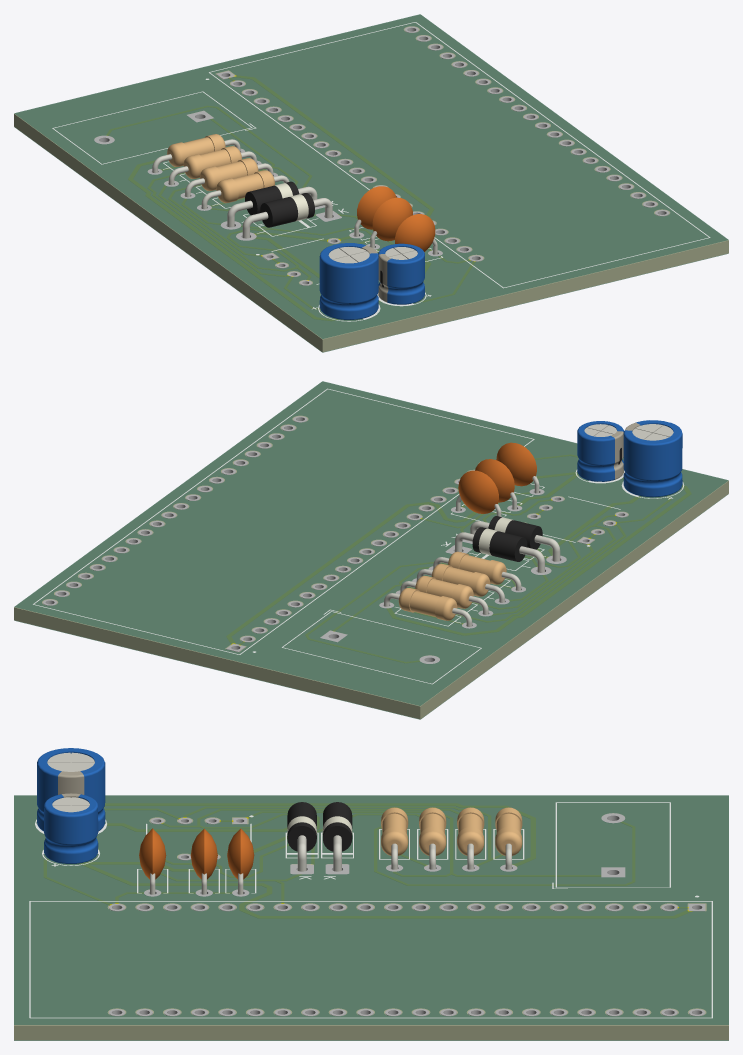
The model's file is akim.glb.
3 renders of one model, top to bottom at view 1: azimuth 30°, elevation 25°; view 2: azimuth 150°, elevation 25°; view 3: azimuth 270°, elevation 25°, orthographic. The views are drawn at different scales.
Parts seen in each view (by area): view 1: =>[0:1:1:10], =>[0:1:1:12], =>[0:1:1:8], C1, =>[0:1:1:7], C3, =>[0:1:1:9], D2, R1, D1, R2, R3 (+5 smaller); view 2: =>[0:1:1:10], =>[0:1:1:12], =>[0:1:1:8], C1, =>[0:1:1:7], =>[0:1:1:9], C3, D1, R2, C5, D2, R4 (+5 smaller); view 3: =>[0:1:1:10], =>[0:1:1:12], =>[0:1:1:8], =>[0:1:1:7], =>[0:1:1:9], C1, C3, D2, D1, R2, R3, R1 (+5 smaller).
Part boxes in pixels (left/top/right/bottom): =>[0:1:1:10]: left=14, top=14, right=728, bottom=338; =>[0:1:1:12]: left=14, top=15, right=728, bottom=352; =>[0:1:1:8]: left=94, top=26, right=669, bottom=285; C1: left=319, top=243, right=378, bottom=319; =>[0:1:1:7]: left=107, top=75, right=475, bottom=320; C3: left=378, top=243, right=424, bottom=304; =>[0:1:1:9]: left=52, top=22, right=710, bottom=321; D2: left=242, top=193, right=332, bottom=238; R1: left=201, top=170, right=289, bottom=209; D1: left=227, top=181, right=317, bottom=227; R2: left=152, top=134, right=240, bottom=173; R3: left=168, top=146, right=256, bottom=185; =>[0:1:1:10]: left=14, top=381, right=728, bottom=705; =>[0:1:1:12]: left=14, top=382, right=728, bottom=719; =>[0:1:1:8]: left=43, top=416, right=627, bottom=663; C1: left=623, top=420, right=682, bottom=497; =>[0:1:1:7]: left=227, top=455, right=690, bottom=662; =>[0:1:1:9]: left=33, top=388, right=684, bottom=684; C3: left=577, top=421, right=623, bottom=481; D1: left=455, top=527, right=544, bottom=572; R2: left=384, top=588, right=472, bottom=626; C5: left=456, top=470, right=501, bottom=516; D2: left=470, top=516, right=560, bottom=561; R4: left=416, top=563, right=504, bottom=602; =>[0:1:1:10]: left=14, top=795, right=728, bottom=1024; =>[0:1:1:12]: left=14, top=796, right=728, bottom=1040; =>[0:1:1:8]: left=108, top=813, right=705, bottom=1016; =>[0:1:1:7]: left=44, top=804, right=692, bottom=917; =>[0:1:1:9]: left=29, top=802, right=712, bottom=1018; C1: left=37, top=748, right=105, bottom=831; C3: left=44, top=793, right=98, bottom=863; D2: left=287, top=802, right=316, bottom=871; D1: left=322, top=802, right=352, bottom=871; R2: left=495, top=807, right=522, bottom=869; R3: left=457, top=807, right=484, bottom=869; R1: left=381, top=807, right=408, bottom=869.
Bounding box in the file's own units: 0.05 × 0.0093 × 0.0657.
